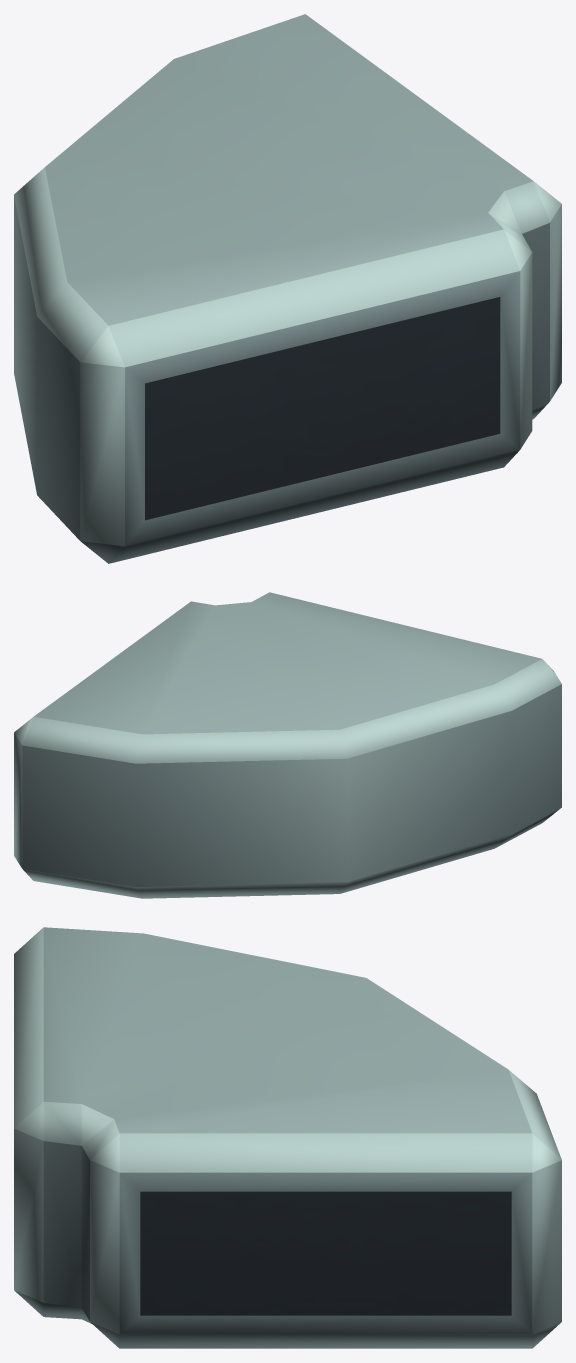
File: air_duct_bend_horizontal.fbx
3 views of the same model, one above another, from view 1: azimuth 30°, elevation 25°; view 2: azimuth 150°, elevation 25°; view 3: azimuth 270°, elevation 25° (orthographic). The views are drawn at different scales.
Parts seen in each view (by area): view 1: air_duct_bend_horizontal; view 2: air_duct_bend_horizontal; view 3: air_duct_bend_horizontal.
Boxes of the visible parts, left/top/right/bottom form: air_duct_bend_horizontal: left=14, top=14, right=561, bottom=563; air_duct_bend_horizontal: left=14, top=592, right=561, bottom=898; air_duct_bend_horizontal: left=14, top=927, right=561, bottom=1348.
Bounding box in the file's own units: 94.21 × 40.92 × 94.39.
